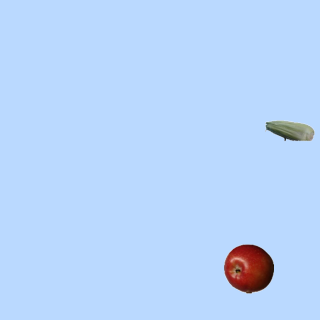Apple Braeburn: (223, 243, 273, 293)
Corn Husk: (264, 105, 314, 155)
